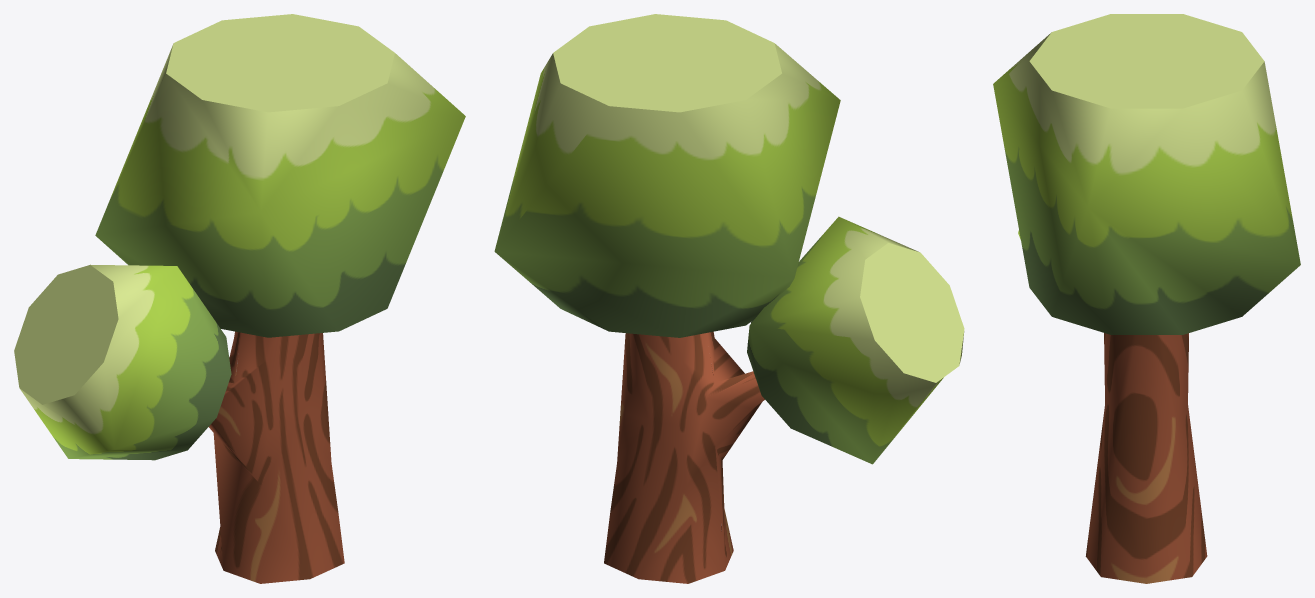
File: arvore01low.FBX
3 views of the same model, side by side, from view 1: azimuth 30°, elevation 25°; view 2: azimuth 150°, elevation 25°; view 3: azimuth 270°, elevation 25° (orthographic).
Visible parts, largest first — view 1: folhasArvore01, folhasArvore002, troncoArvore01; view 2: folhasArvore01, folhasArvore002, troncoArvore01; view 3: folhasArvore01, troncoArvore01.
Boxes of the visible parts, left/top/right/bottom form: folhasArvore01: left=95, top=14, right=465, bottom=337; folhasArvore002: left=14, top=264, right=231, bottom=460; troncoArvore01: left=209, top=331, right=344, bottom=583; folhasArvore01: left=494, top=14, right=840, bottom=337; folhasArvore002: left=747, top=216, right=964, bottom=464; troncoArvore01: left=604, top=331, right=764, bottom=583; folhasArvore01: left=993, top=14, right=1300, bottom=334; troncoArvore01: left=1085, top=333, right=1207, bottom=583.
Bounding box in the file's own units: 182 × 204 × 115.
